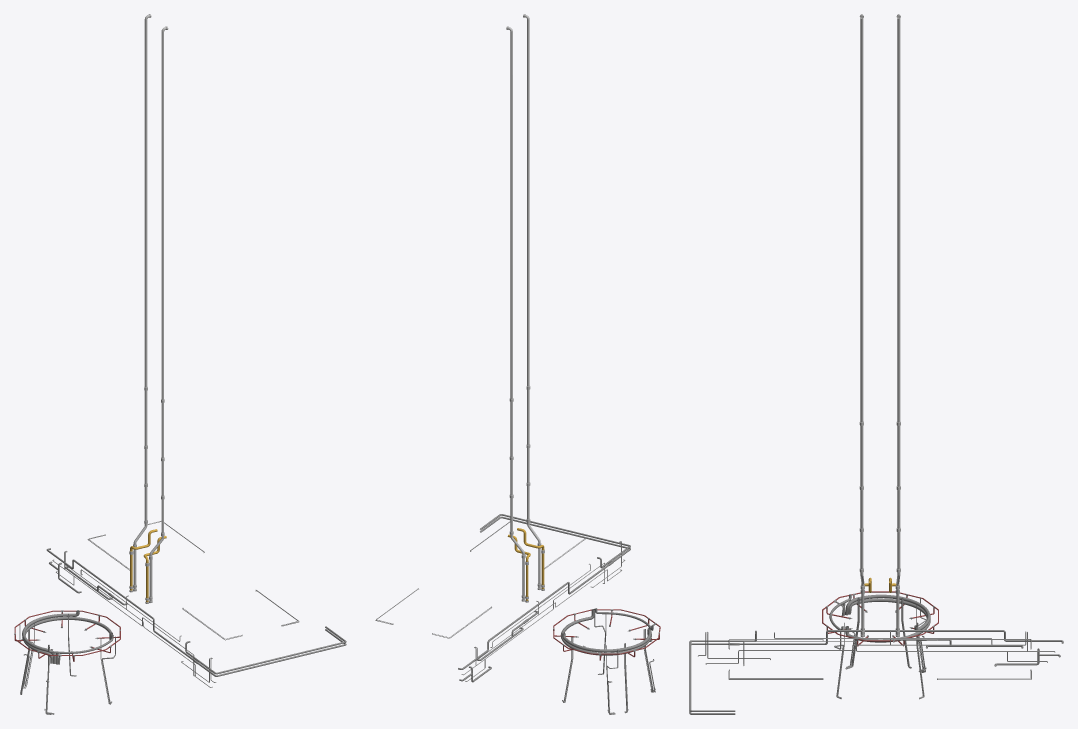
3 renders of one model, left to right at view 1: azimuth 30°, elevation 25°; view 2: azimuth 150°, elevation 25°; view 3: azimuth 270°, elevation 25°, orthographic. The views are drawn at different scales.
Parts seen in each view (by area): view 1: SM_H_Industrial_ISS_LaunchLauncher_01L; view 2: SM_H_Industrial_ISS_LaunchLauncher_01L; view 3: SM_H_Industrial_ISS_LaunchLauncher_01L.
Part boxes in pixels (left/top/right/bottom): SM_H_Industrial_ISS_LaunchLauncher_01L: left=14, top=14, right=346, bottom=714; SM_H_Industrial_ISS_LaunchLauncher_01L: left=375, top=14, right=660, bottom=714; SM_H_Industrial_ISS_LaunchLauncher_01L: left=689, top=14, right=1063, bottom=714.
Bounding box in the file's own units: 1686 × 1368 × 3579.
